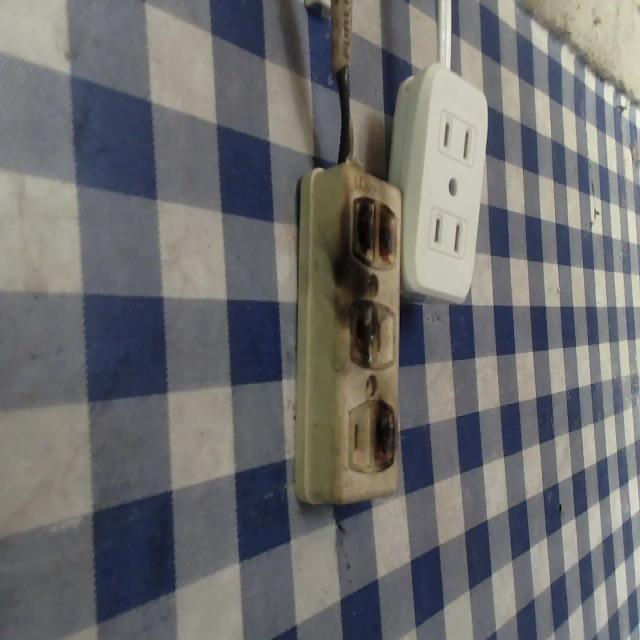-: (344, 182, 407, 274), (365, 387, 404, 481), (342, 297, 382, 372)
